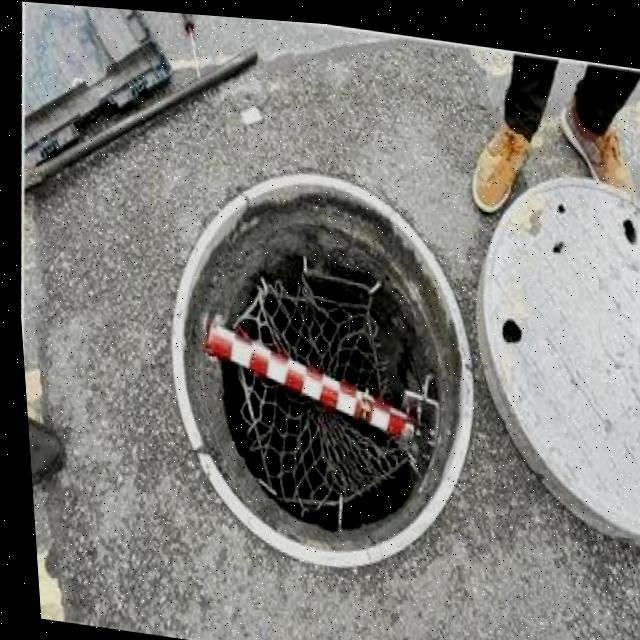manhole: (134, 135, 491, 581)
